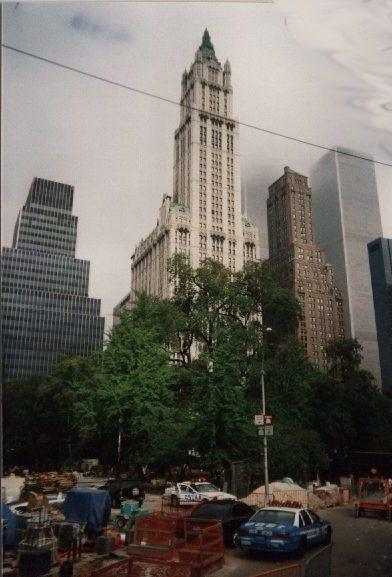building: (134, 28, 260, 379), (0, 176, 109, 389), (310, 146, 390, 399), (266, 166, 352, 382), (367, 235, 392, 398)
